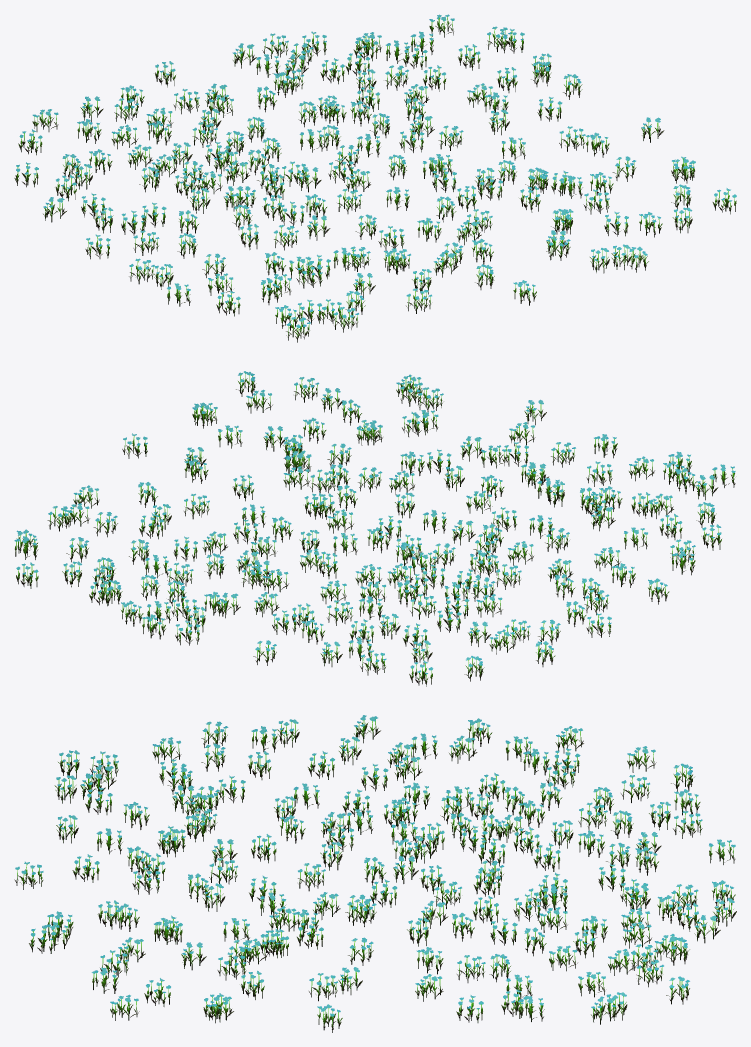
Rendered from SM_Env_Wildflowers_Patch_03.fbx.
The picture shows the model from 3 angles, top to bottom: view 1: azimuth 30°, elevation 25°; view 2: azimuth 150°, elevation 25°; view 3: azimuth 270°, elevation 25°; orthographic projection. The views are drawn at different scales.
Parts seen in each view (by area): view 1: SM_Env_Wildflowers_Patch_03_LOD0; view 2: SM_Env_Wildflowers_Patch_03_LOD0; view 3: SM_Env_Wildflowers_Patch_03_LOD0.
Part boxes in pixels (x1,y1,x2,y2): SM_Env_Wildflowers_Patch_03_LOD0: (14,14,736,342); SM_Env_Wildflowers_Patch_03_LOD0: (14,371,735,686); SM_Env_Wildflowers_Patch_03_LOD0: (14,715,736,1032).
Size of what is drawn, in the model's own units: 1832 by 63.79 by 1856.
